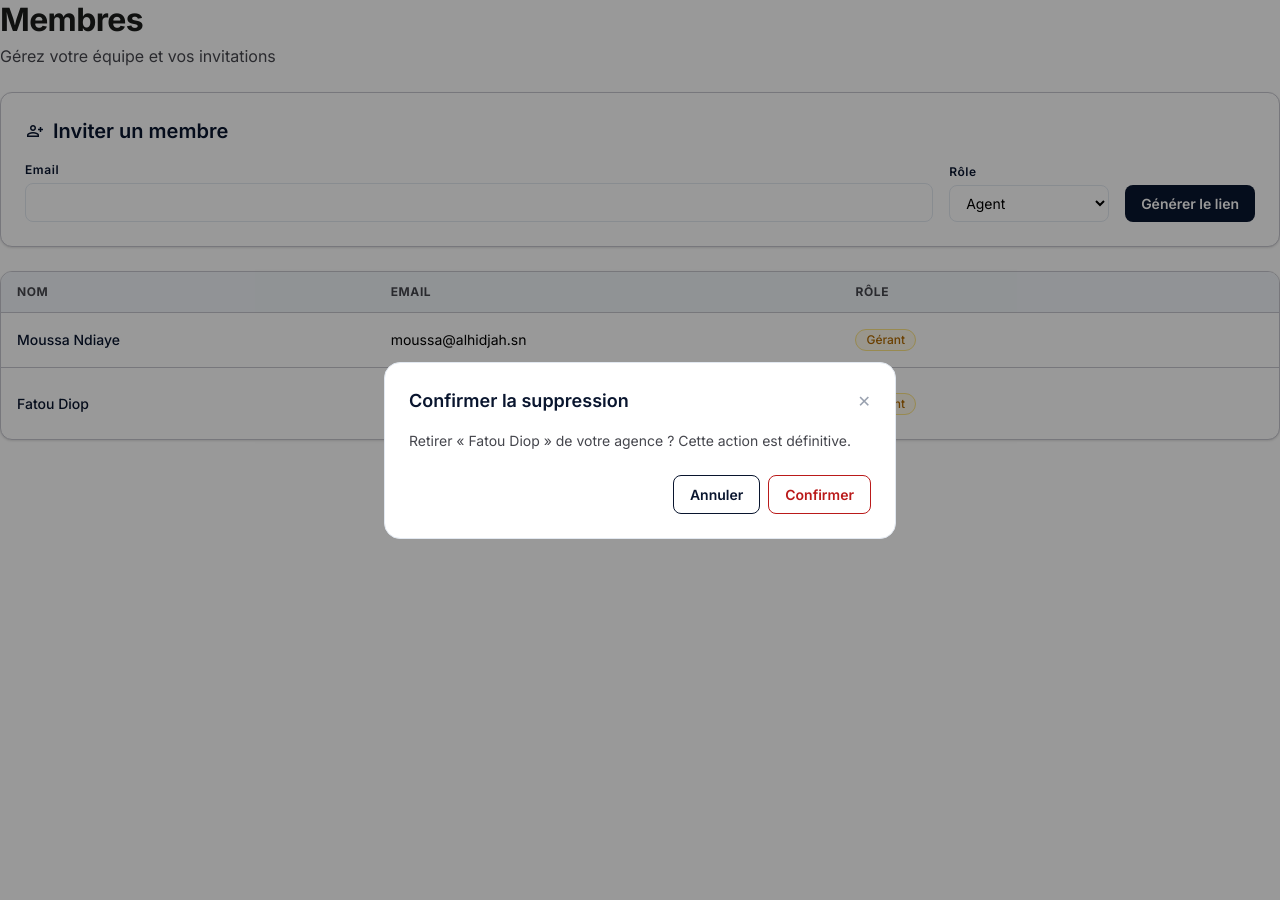
Test: Membres › affiche une erreur dans la modale si la suppression du membre échoue
Earlier steps of the test are not shown.
Click the button "Confirmer".
click(820, 494)  # box [768, 474, 871, 514]
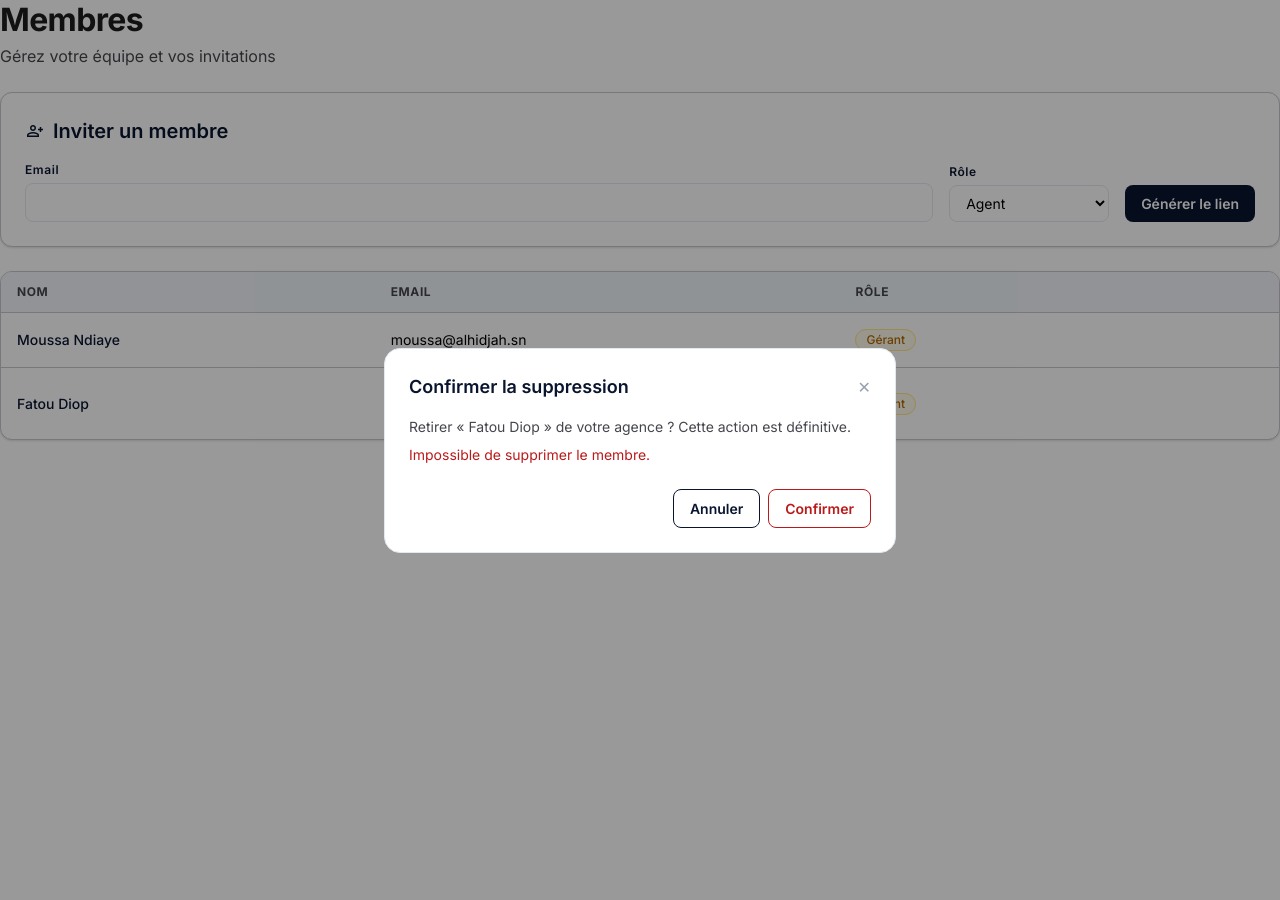
Now the text "Retirer « Fatou Diop » de votre agence" is shown, box [409, 418, 851, 434]
Now the text "Impossible de supprimer le membre." is shown, box [409, 446, 650, 462]
